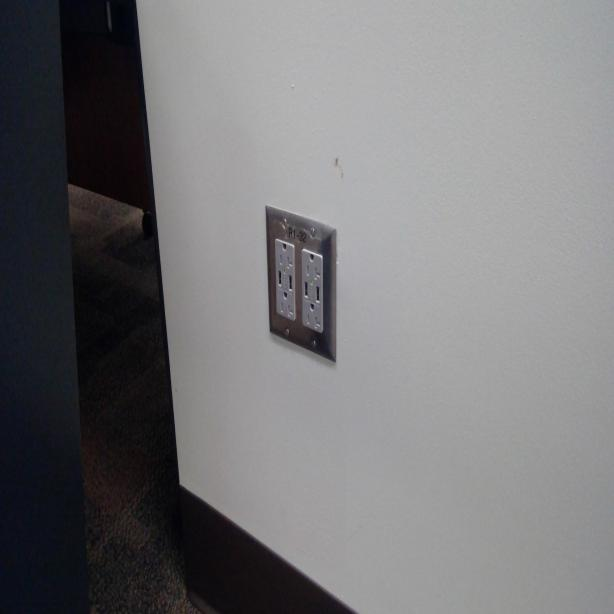typeb: (272, 235, 296, 271), (302, 248, 324, 280), (274, 290, 294, 321), (303, 302, 322, 332)
